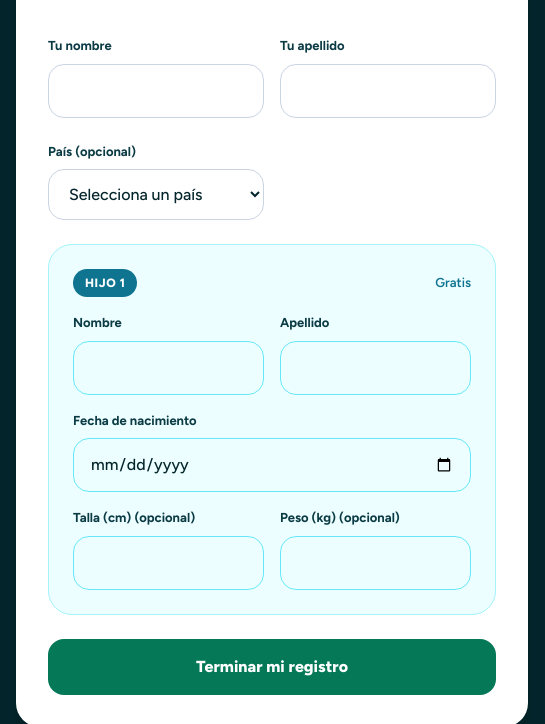
CompleteGoogleSignupPage › shows a validation error and does not submit when required fields are empty
(page scrolled)
Click the button "Terminar mi registro". click: (272,666)
box: [48,638,496,694]
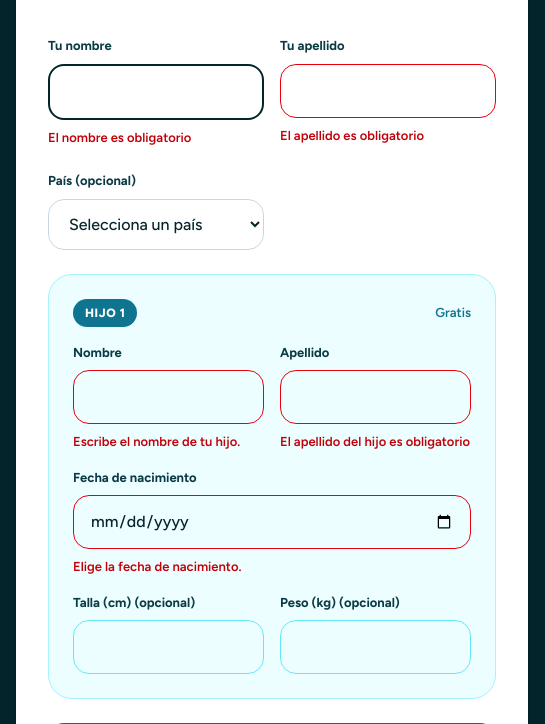
Expected: the text "El nombre es obligatorio" is shown, [48,130,191,144]
